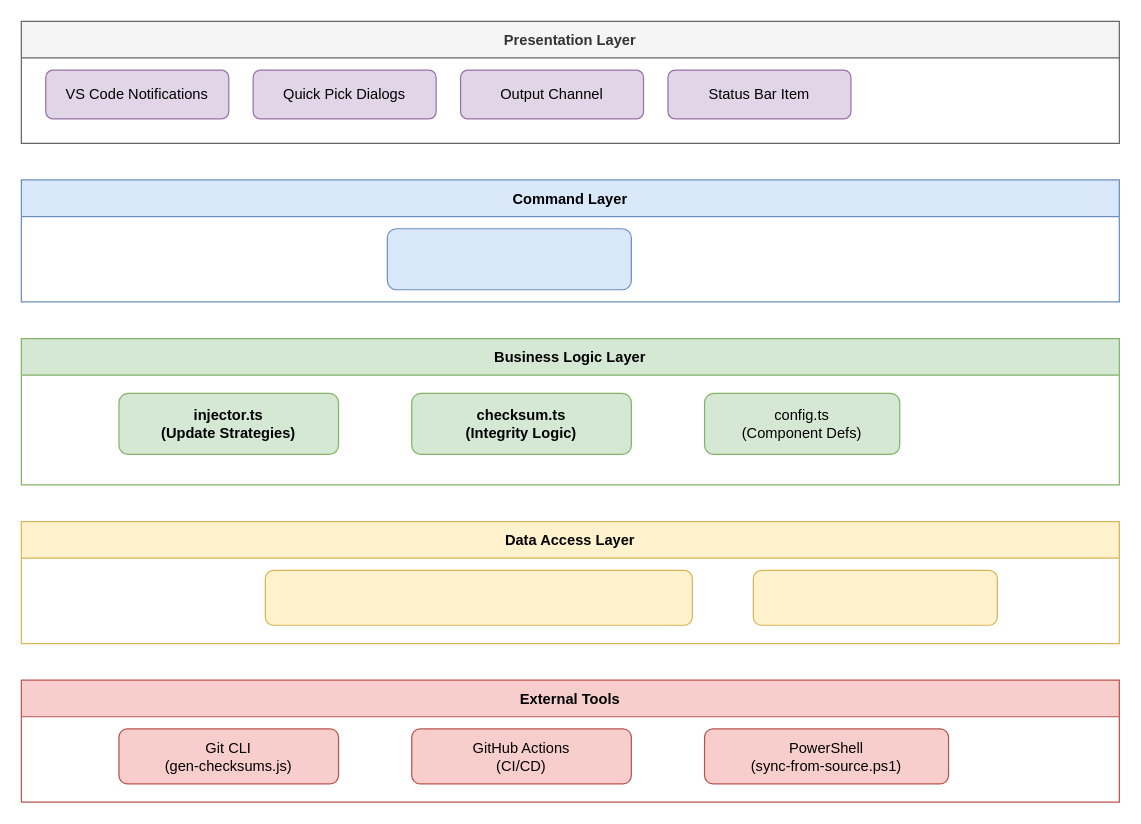
The diagram is 1141 pixels wide and 824 high, and some of its shapes have lost their labels. Here are the shapes that lost their labels. From the top down, the centre of each, then its label:
the point at 508,259: extension.ts (Command Registration)
the point at 478,597: Node.js fs module (readFileSync, writeFileSync, copyFileSync)
the point at 874,597: Node.js crypto (createHash SHA-256)
